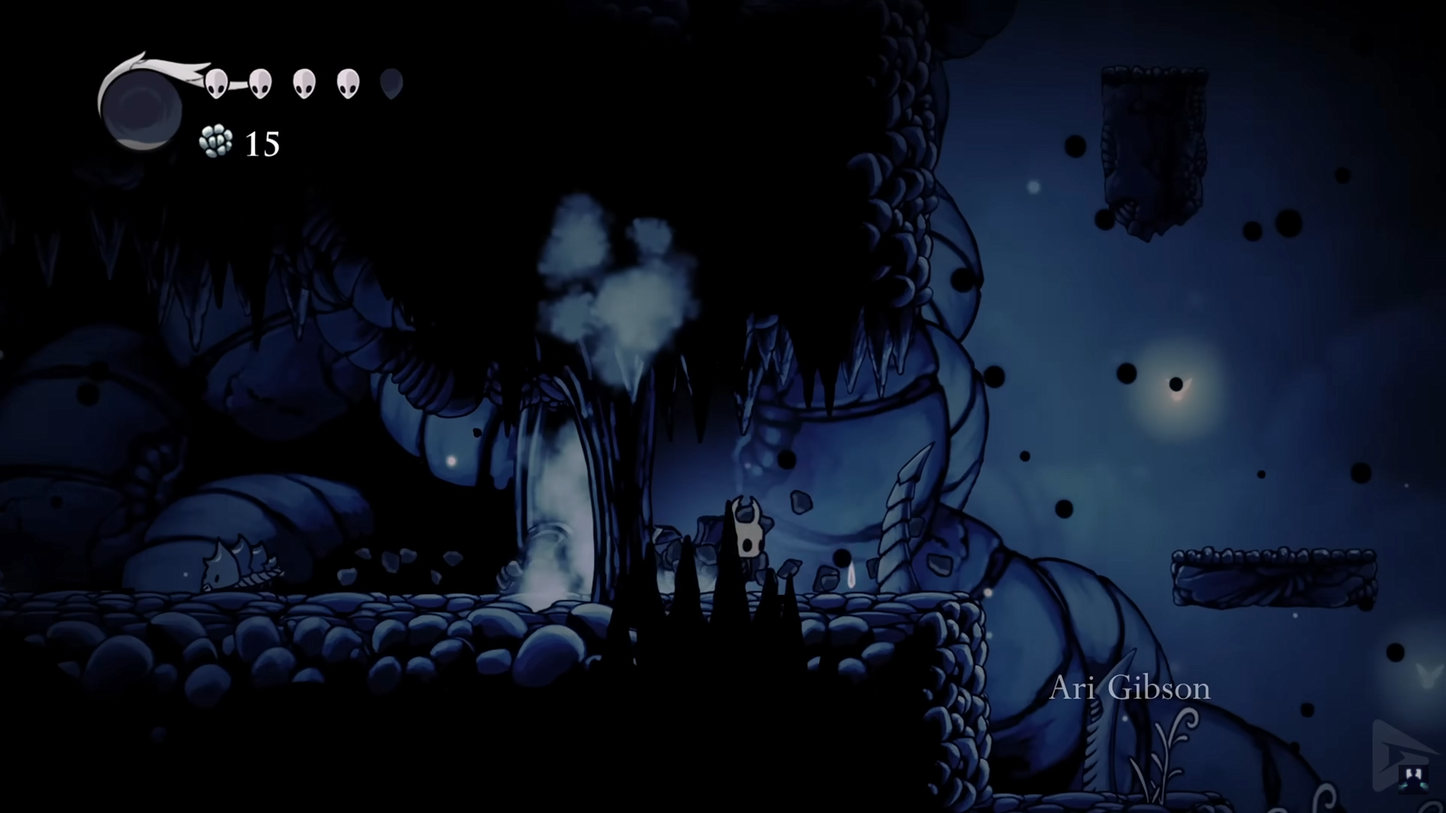HK: (723, 489, 772, 592)
